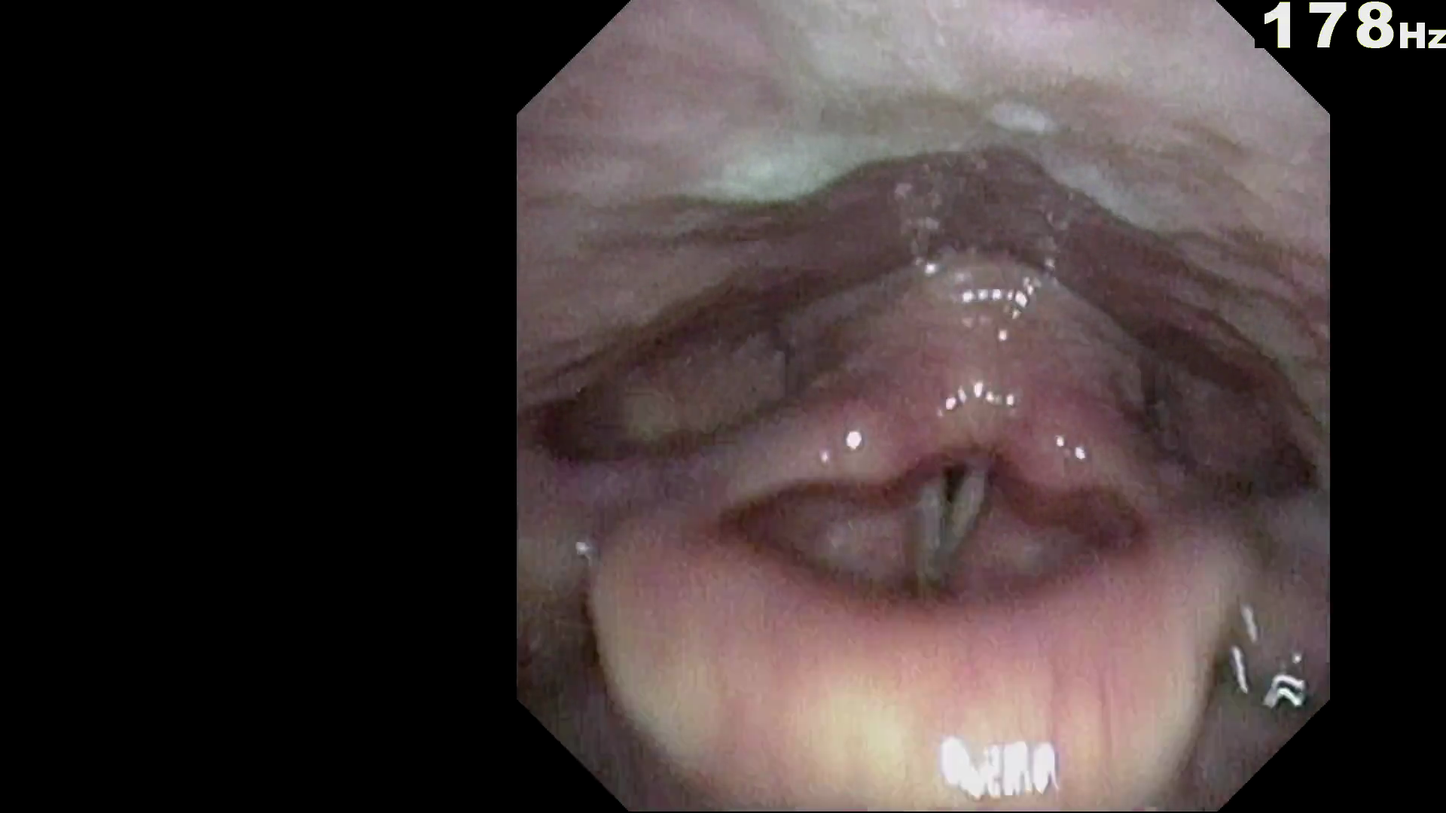epiglottis: (654, 482, 1198, 673)
trachea: (892, 440, 1047, 523)
